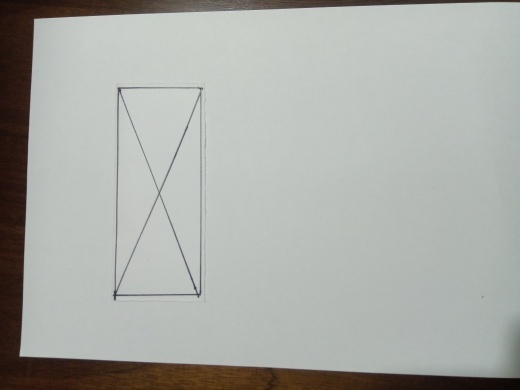img: (115, 90, 203, 294)
